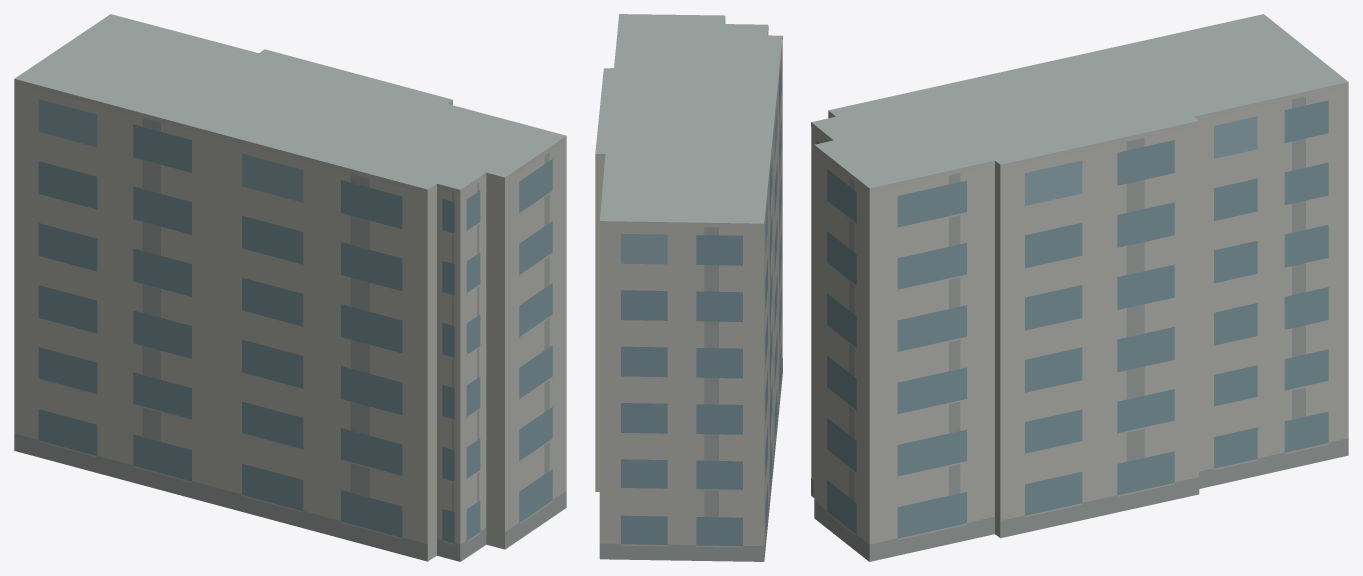
The model's file is survey-upis-32611608.glb.
The picture shows the model from 3 angles, left to right: view 1: azimuth 30°, elevation 25°; view 2: azimuth 150°, elevation 25°; view 3: azimuth 270°, elevation 25°; orthographic projection. The views are drawn at different scales.
Parts seen in each view (by area): view 1: survey-upis-32611608.tmp; view 2: survey-upis-32611608.tmp; view 3: survey-upis-32611608.tmp.
Part boxes in pixels (x1,y1,x2,y2): survey-upis-32611608.tmp: (14, 14, 566, 561); survey-upis-32611608.tmp: (595, 14, 782, 561); survey-upis-32611608.tmp: (811, 14, 1348, 561).
Bounding box in the file's own units: 18.74 × 18.7 × 24.4.
